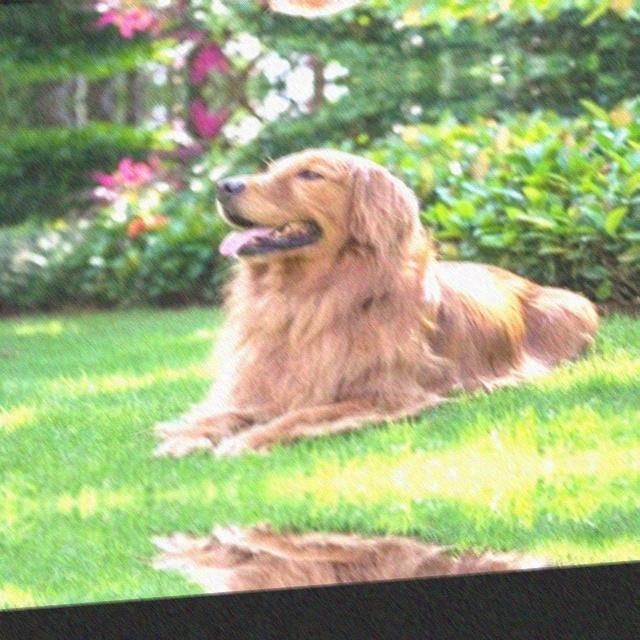dog: (197, 115, 589, 468), (196, 484, 586, 594), (202, 0, 590, 34)
